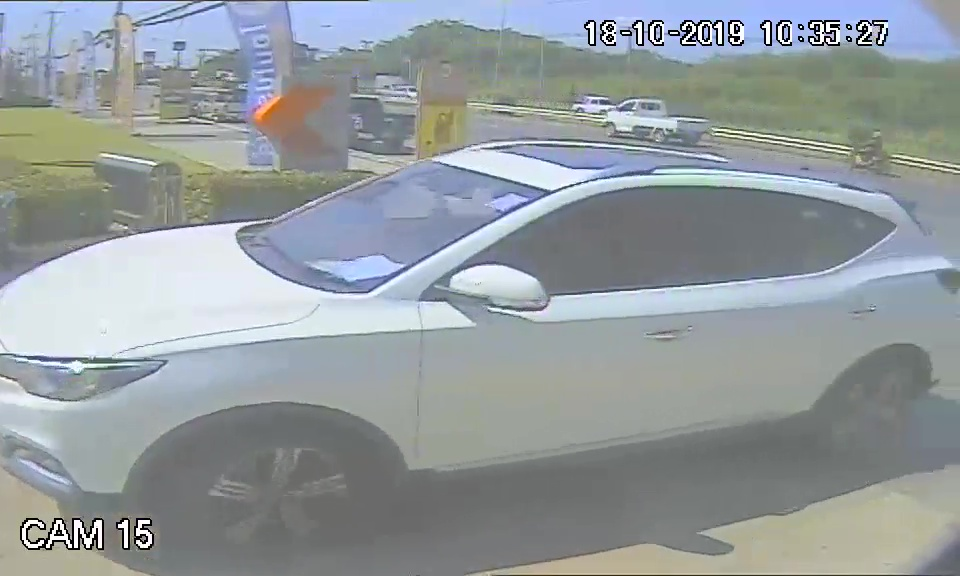pickup: (4, 134, 931, 506)
